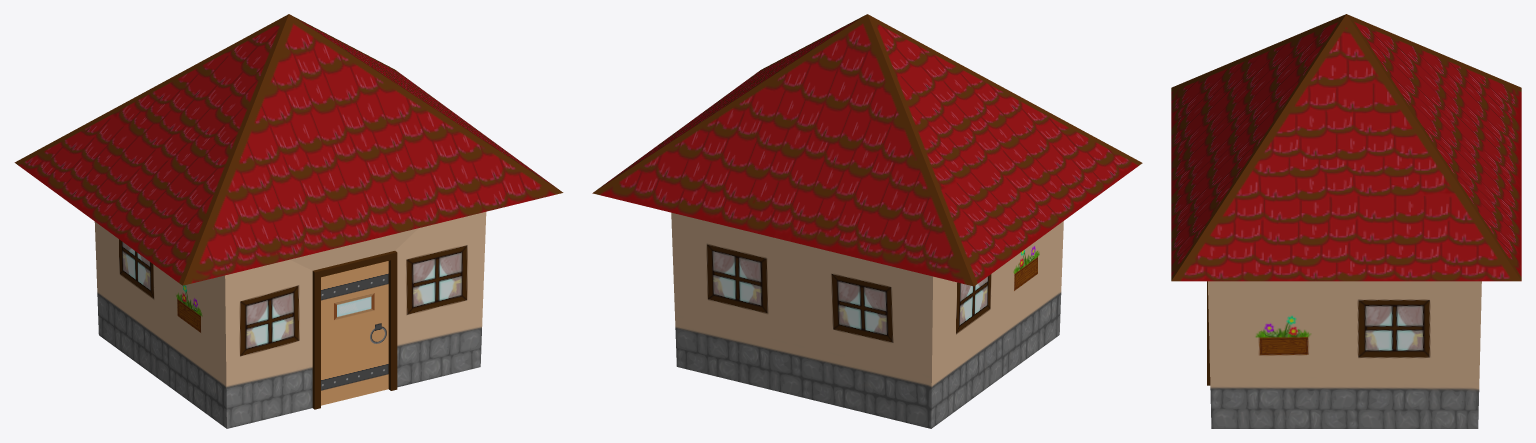
Rendered from smlHouse.FBX.
3 views of the same model, side by side, from view 1: azimuth 30°, elevation 25°; view 2: azimuth 150°, elevation 25°; view 3: azimuth 270°, elevation 25° (orthographic). The views are drawn at different scales.
Visible parts, largest first — view 1: HousseRoof, houseBase; view 2: HousseRoof, houseBase; view 3: HousseRoof, houseBase.
Boxes of the visible parts, left/top/right/bottom form: HousseRoof: left=14, top=14, right=563, bottom=285; houseBase: left=94, top=212, right=486, bottom=428; HousseRoof: left=592, top=14, right=1142, bottom=286; houseBase: left=671, top=212, right=1063, bottom=428; HousseRoof: left=1171, top=14, right=1521, bottom=281; houseBase: left=1207, top=281, right=1481, bottom=428.
Bounding box in the file's own units: 244 × 187 × 206.
1 material, 1 textured.
